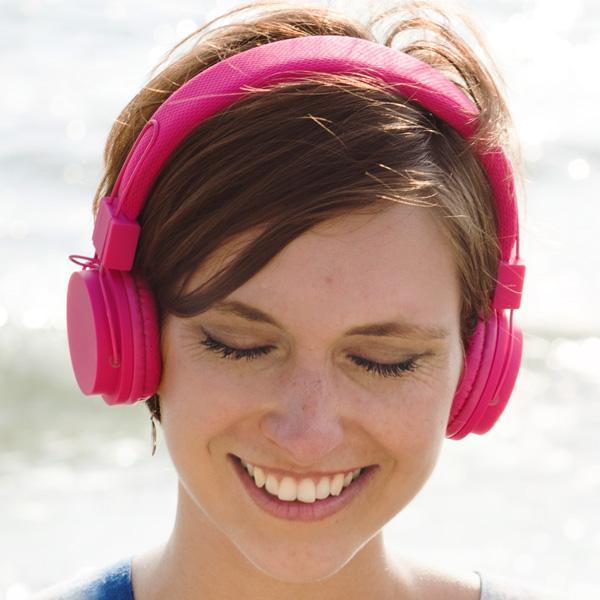Eyes: (185, 308, 286, 378), (329, 326, 437, 390)
